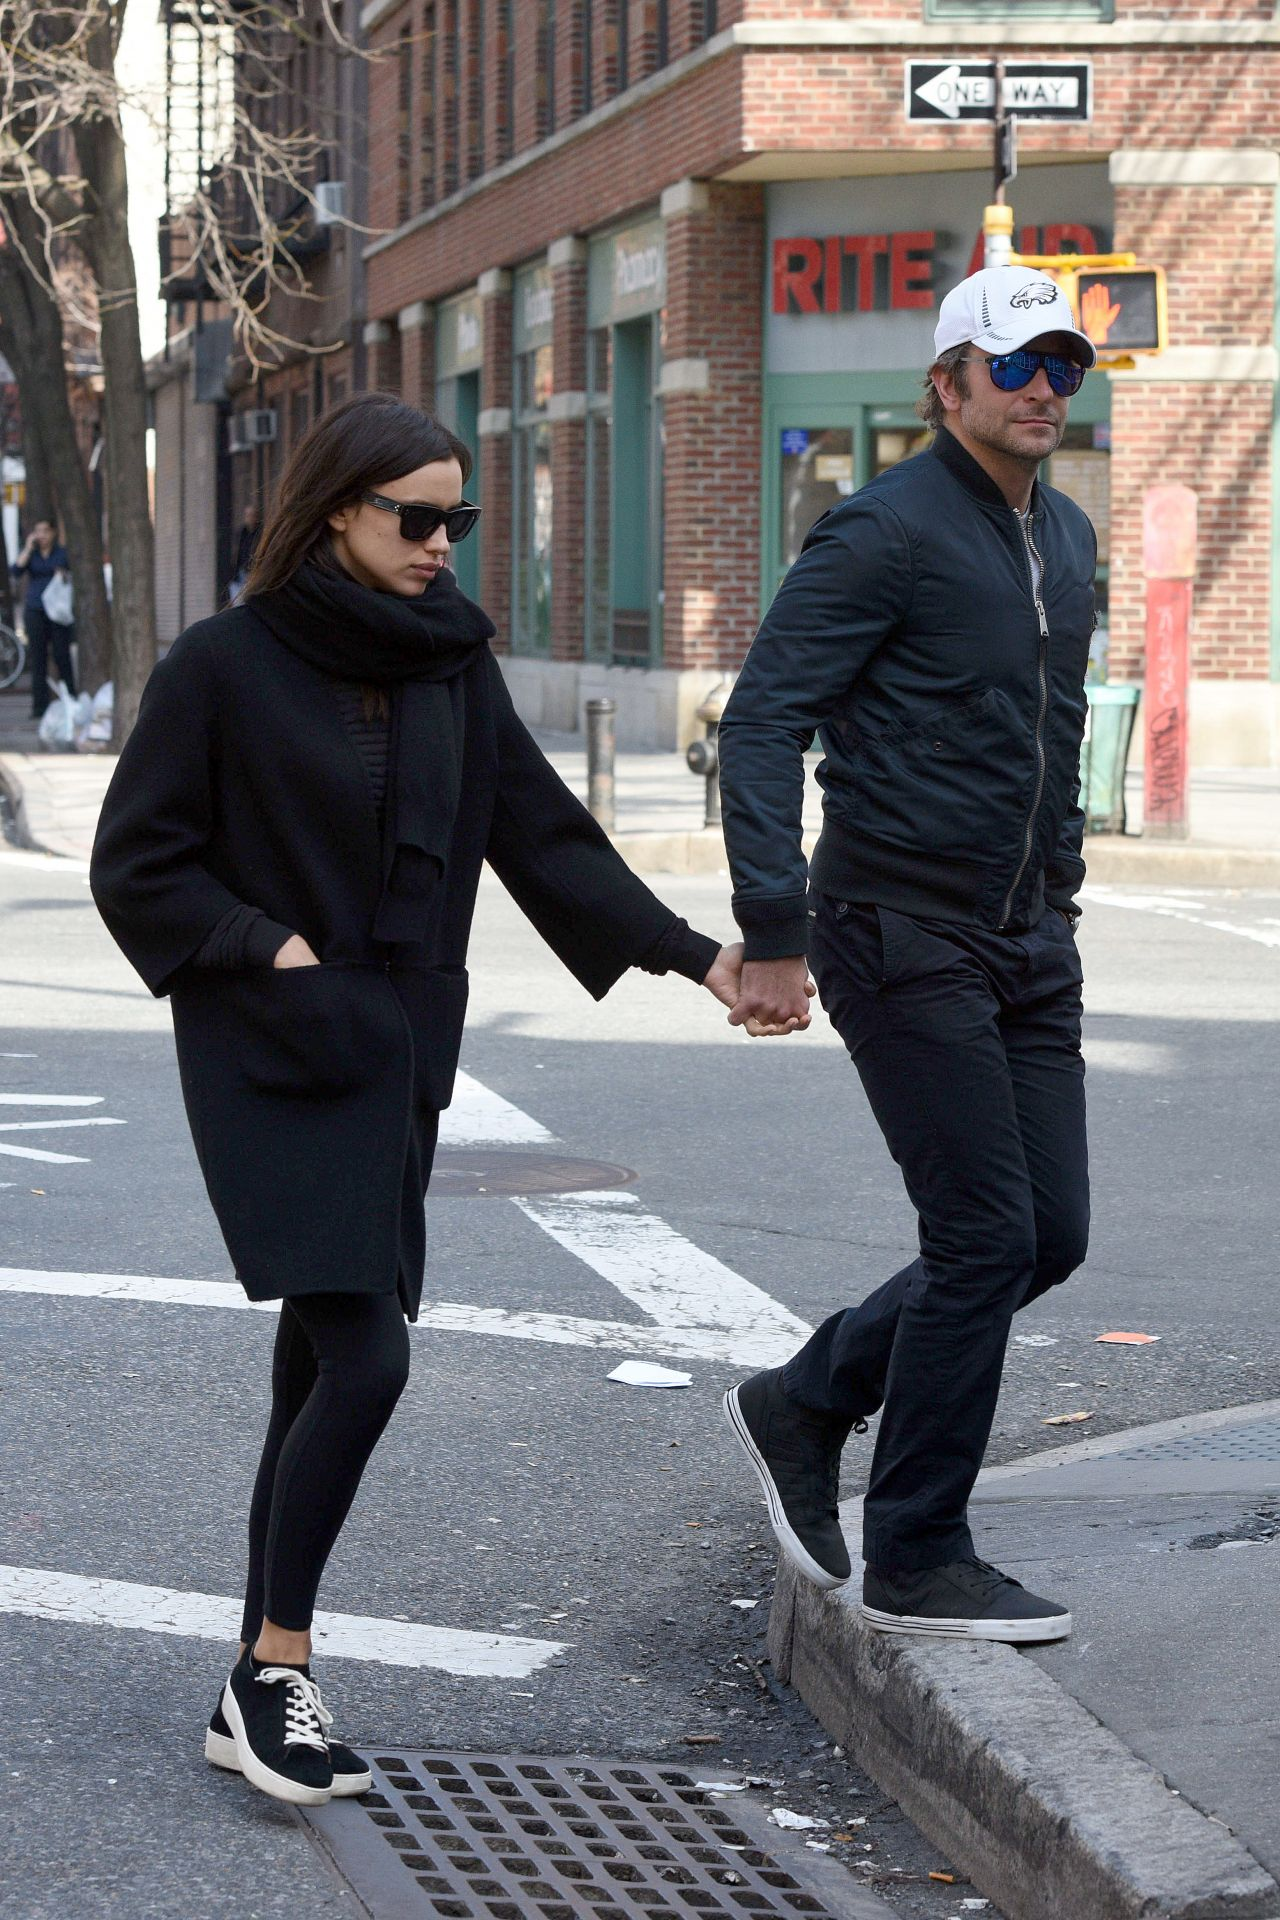Person: (86, 394, 816, 1810), (725, 265, 1106, 1647)
